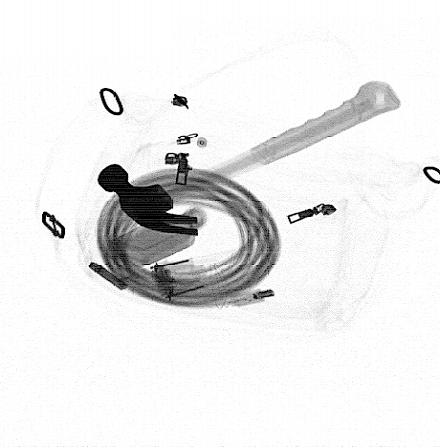Hammer: (97, 80, 402, 236)
